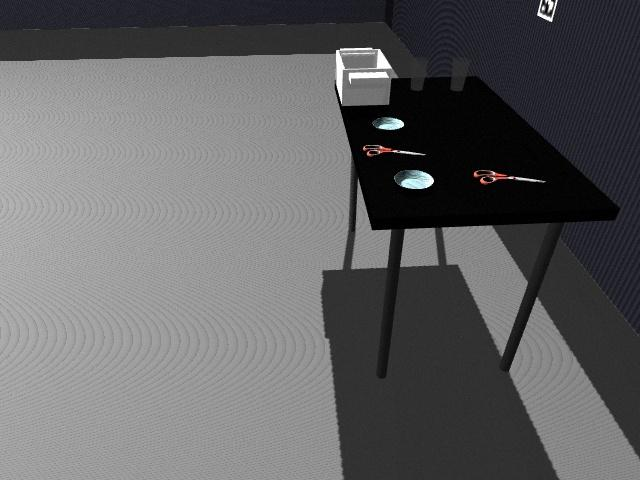cup: (450, 57, 470, 92), (410, 59, 428, 92)
plate: (394, 169, 436, 190), (371, 117, 406, 131)
scissors: (473, 168, 546, 185), (362, 144, 424, 158)
